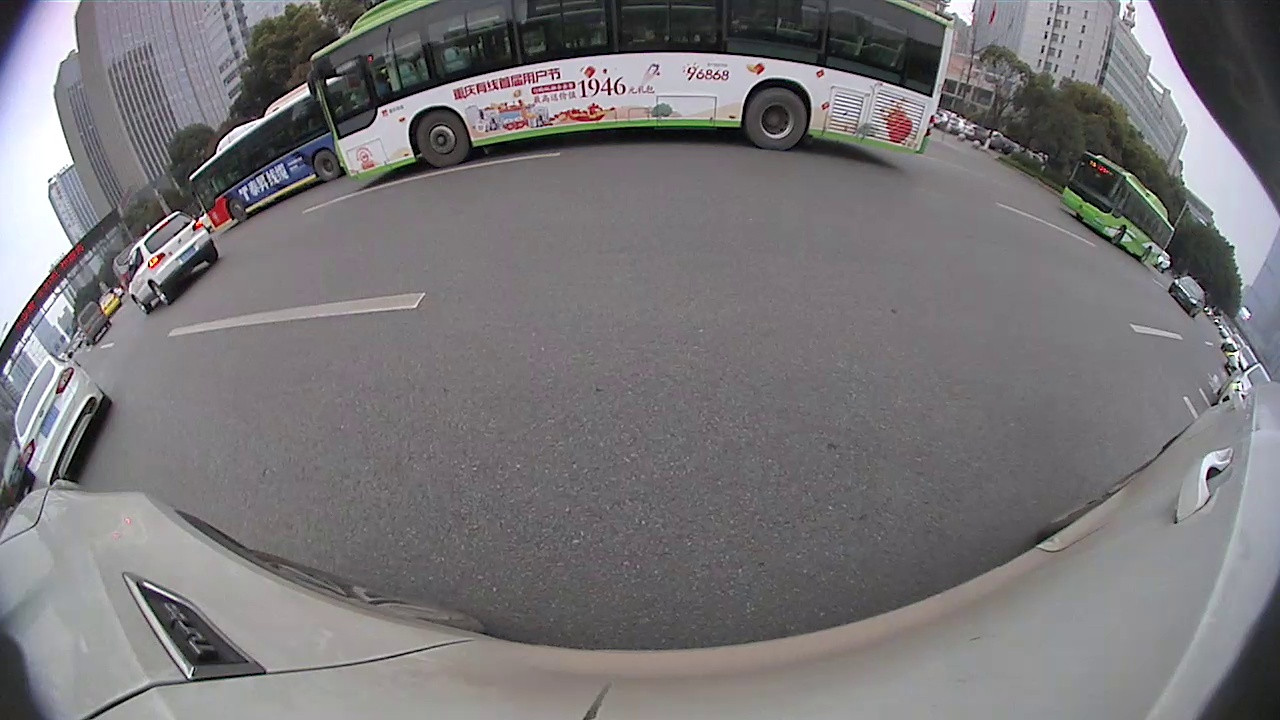bus: (297, 2, 971, 195), (184, 73, 340, 235), (1057, 147, 1179, 270)
car: (7, 358, 116, 484), (118, 208, 224, 315)
front: (414, 108, 472, 168), (228, 198, 251, 225)
rear: (746, 84, 809, 151), (311, 149, 339, 182), (150, 281, 170, 307)
